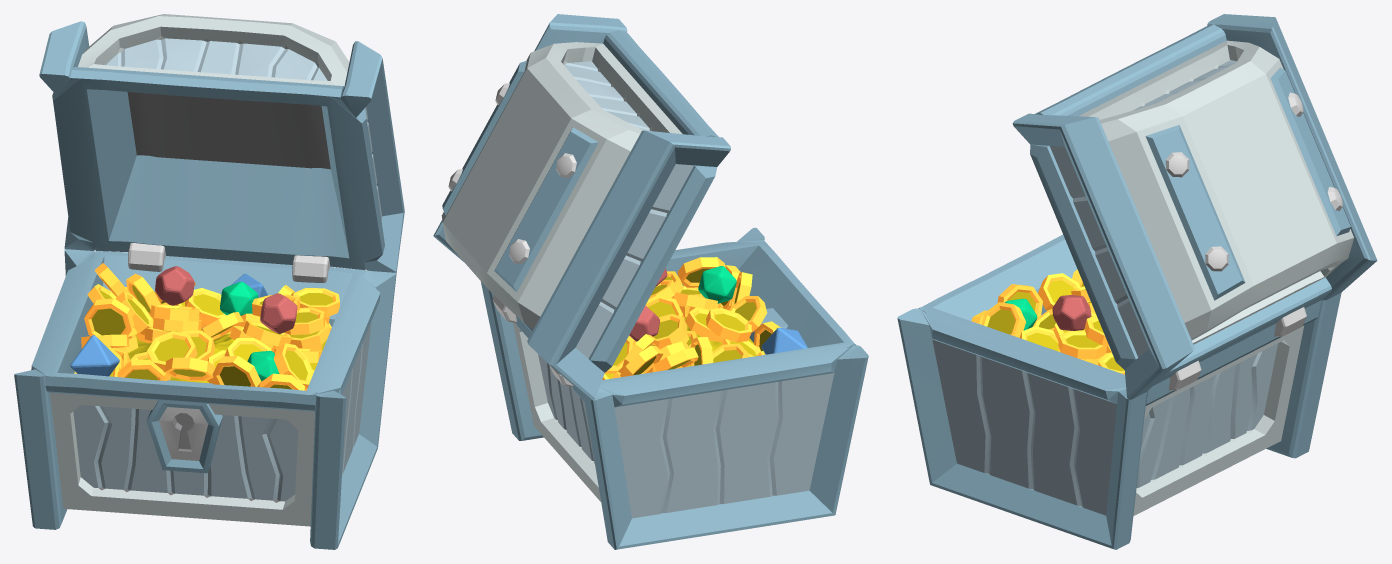
Rendered from Treasure_Chest_1c.fbx.
3 renders of one model, left to right at view 1: azimuth 30°, elevation 25°; view 2: azimuth 150°, elevation 25°; view 3: azimuth 270°, elevation 25°, orthographic. The views are drawn at different scales.
Parts seen in each view (by area): view 1: Opened_13, Treasure_Chest_1c, Gold_13; view 2: Opened_13, Treasure_Chest_1c, Gold_13; view 3: Opened_13, Treasure_Chest_1c, Gold_13.
Boxes of the visible parts, x1,y1,x2,y2 form: Opened_13: (39, 14, 404, 272); Treasure_Chest_1c: (14, 243, 396, 549); Gold_13: (70, 263, 339, 390); Opened_13: (433, 14, 730, 400); Treasure_Chest_1c: (480, 227, 868, 549); Gold_13: (602, 257, 807, 379); Opened_13: (1012, 14, 1377, 399); Treasure_Chest_1c: (897, 234, 1341, 549); Gold_13: (971, 269, 1124, 374).
Bounding box in the file's own units: 448 × 433 × 450.
